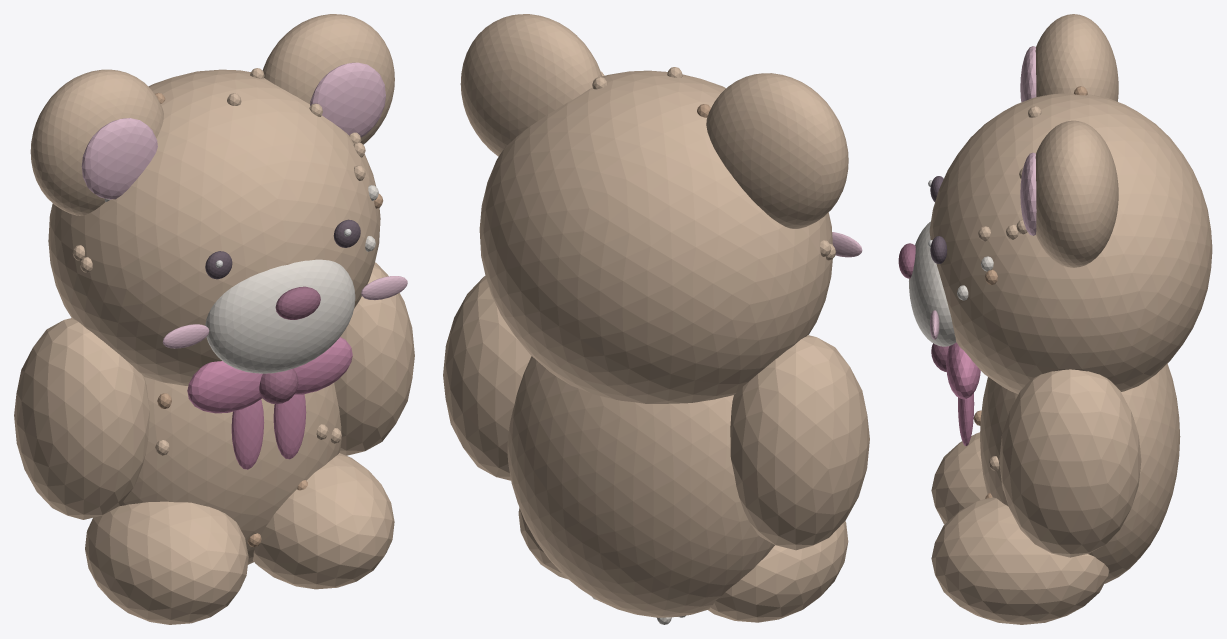
Rendered from teddy_bear.glb.
3 renders of one model, left to right at view 1: azimuth 30°, elevation 25°; view 2: azimuth 150°, elevation 25°; view 3: azimuth 270°, elevation 25°, orthographic. The views are drawn at different scales.
Parts seen in each view (by area): view 1: head, arm-1, body, leg-1, leg1, muzzle, ear-1, arm1, ear1, ear_in-1, ear_in1, bow_loop_-1 (+9 smaller); view 2: head, body, arm-1, ear-1, ear1, arm1, leg-1, leg1; view 3: head, arm1, leg1, body, ear1, ear-1, leg-1, muzzle, bow_loop_1, ear_in1, ear_in-1, bow_tail_1 (+1 smaller).
Boxes of the visible parts, bbox=[...] form: head: bbox=[48, 69, 380, 385]; arm-1: bbox=[14, 318, 149, 519]; body: bbox=[120, 377, 341, 564]; leg-1: bbox=[85, 501, 248, 624]; leg1: bbox=[253, 453, 394, 589]; muzzle: bbox=[205, 259, 355, 373]; ear-1: bbox=[30, 69, 163, 215]; arm1: bbox=[334, 262, 414, 455]; ear1: bbox=[262, 14, 394, 144]; ear_in-1: bbox=[81, 118, 157, 199]; ear_in1: bbox=[310, 62, 385, 137]; bow_loop_-1: bbox=[187, 361, 262, 413]; head: bbox=[479, 70, 832, 403]; body: bbox=[507, 356, 774, 617]; arm-1: bbox=[730, 335, 869, 550]; ear-1: bbox=[706, 73, 848, 228]; ear1: bbox=[460, 14, 602, 156]; arm1: bbox=[443, 276, 531, 480]; leg-1: bbox=[708, 521, 848, 622]; leg1: bbox=[518, 507, 568, 579]; head: bbox=[929, 93, 1212, 394]; arm1: bbox=[999, 369, 1141, 557]; leg1: bbox=[931, 497, 1109, 624]; body: bbox=[980, 363, 1180, 583]; ear1: bbox=[1035, 120, 1118, 267]; ear-1: bbox=[1035, 14, 1118, 101]; leg-1: bbox=[931, 432, 987, 524]; muzzle: bbox=[909, 221, 956, 346]; bow_loop_1: bbox=[946, 342, 980, 399]; ear_in1: bbox=[1020, 152, 1036, 235]; ear_in-1: bbox=[1020, 46, 1036, 102]; bow_tail_1: bbox=[958, 393, 974, 445].
Bounding box in the file's own units: 1.3 × 1.74 × 0.972.
